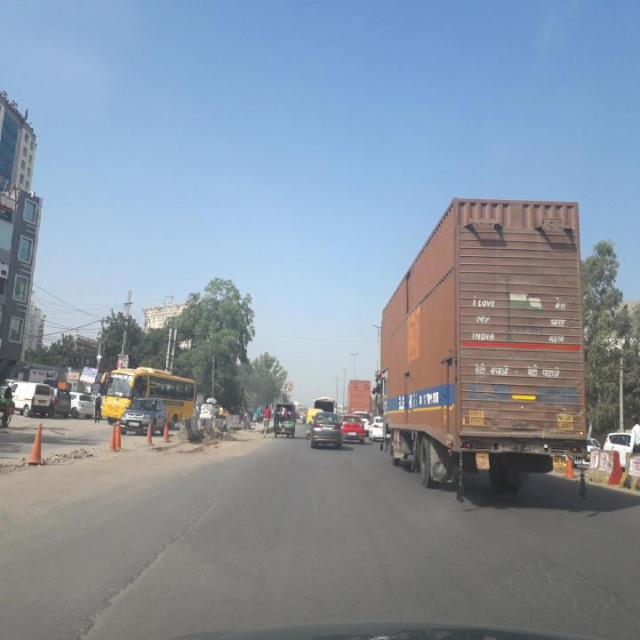D01: (92, 467, 232, 628)
D20: (496, 514, 627, 628)
